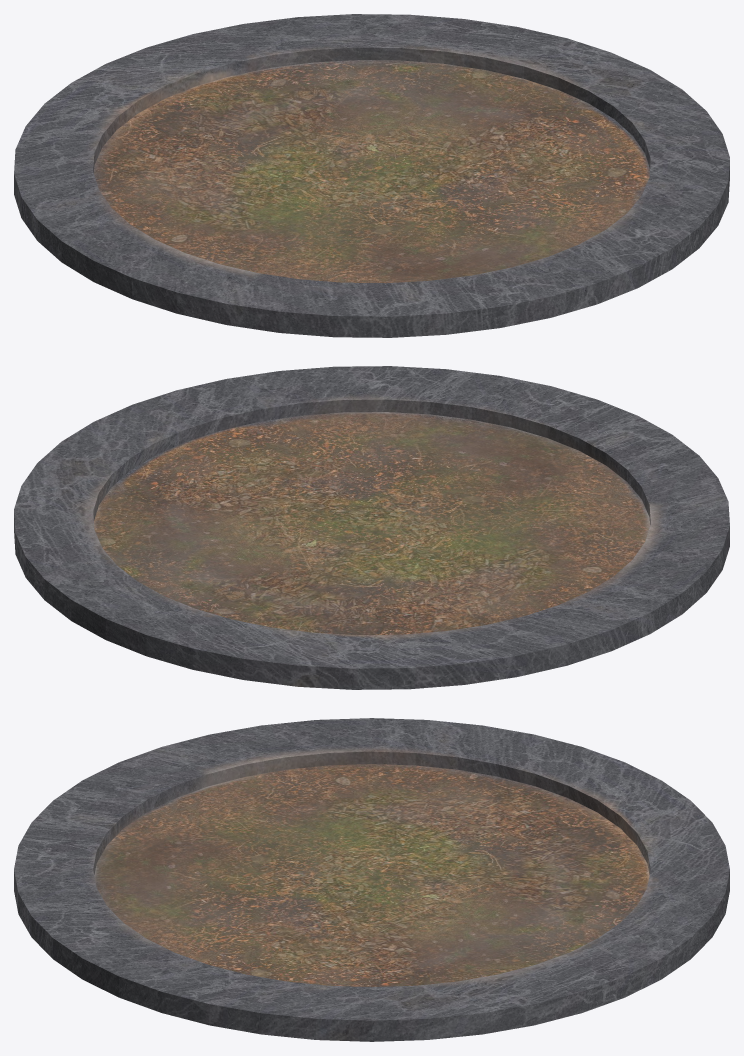
File: Flat_bed.fbx
The picture shows the model from 3 angles, top to bottom: view 1: azimuth 30°, elevation 25°; view 2: azimuth 150°, elevation 25°; view 3: azimuth 270°, elevation 25°; orthographic projection.
Visible parts, largest first — view 1: flat_bed; view 2: flat_bed; view 3: flat_bed.
Part boxes in pixels (box(x1,y1,x2,y2)): flat_bed: box(14, 14, 729, 337); flat_bed: box(14, 366, 729, 689); flat_bed: box(14, 718, 729, 1041).
Size of the model in its own units: 247 by 8.08 by 247.
